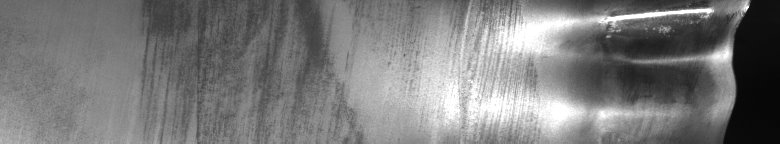ke: (466, 4, 716, 102)
